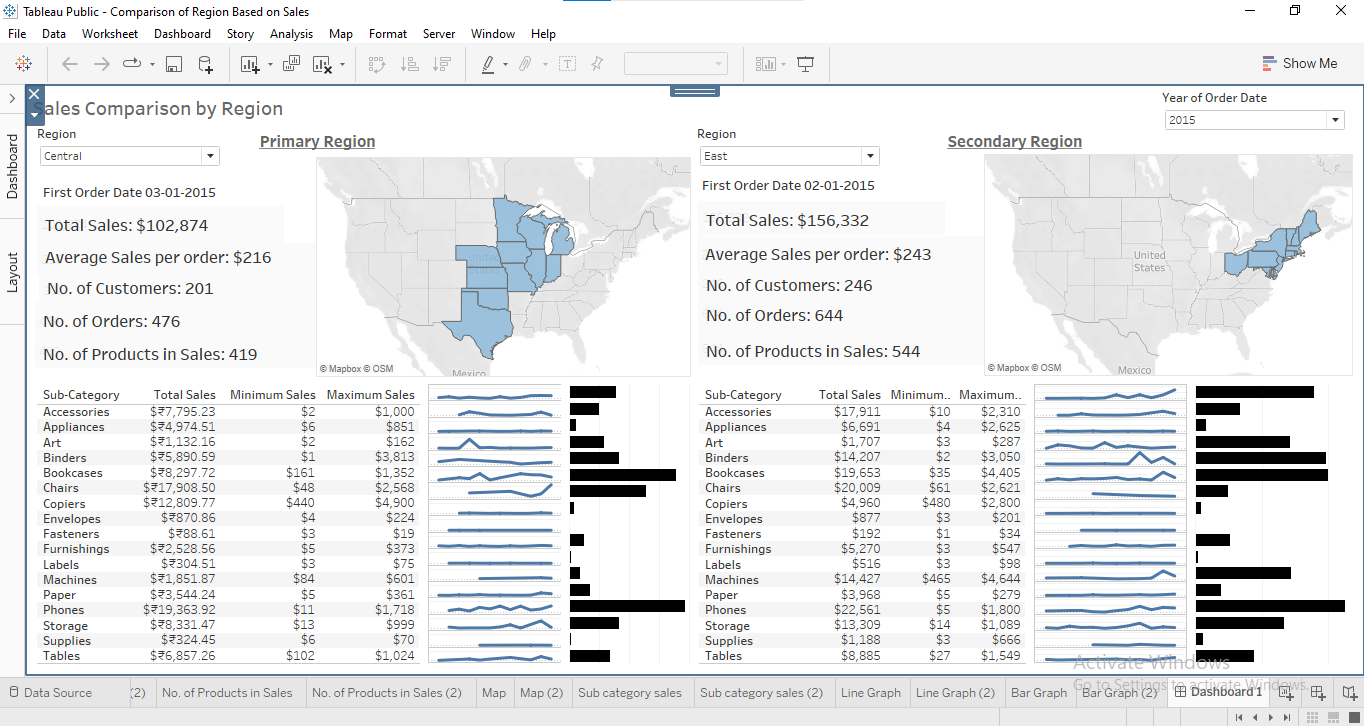

This screenshot's page, from the dashboard's own definition file:
{"tool":"tableau","page":{"name":"Dashboard 1","canvas":[1000,1000],"units":"permille","ordinal":0},"visuals":[{"type":"filter","title":"First Order Date","param":"[federated.1mujf1b0lsy11f1d64mzi04gg3k1].[yr:Order Date:ok]","box":[848.5,8.4,138.5,74.3]},{"type":"text","box":[3.5,13.5,221.7,50.7]},{"type":"filter","title":"First Order Date","param":"[federated.1mujf1b0lsy11f1d64mzi04gg3k1].[none:Region:nk]","box":[8.7,69.3,138.5,74.3]},{"type":"filter","title":"First Order Date (2)","param":"[federated.1mujf1b0lsy11f1d64mzi04gg3k1].[none:Region:nk]","box":[501.3,69.3,138.5,74.3]},{"type":"text","box":[173.2,71,105.6,50.7]},{"type":"text","box":[686.6,71,122.1,50.7]},{"type":"worksheet","title":"Map (2)","mark":"Multipolygon","box":[716,118.2,275.3,375]},{"type":"worksheet","title":"Map","mark":"Multipolygon","box":[217.3,123.3,279.7,371.6]},{"type":"worksheet","title":"First Order Date (2)","mark":"Automatic","box":[502.2,143.6,219.1,55.7]},{"type":"worksheet","title":"First Order Date","mark":"Automatic","box":[10.4,157.1,205.2,52.4]},{"type":"worksheet","title":"Total Sales (2)","mark":"Automatic","box":[502.2,197.6,214.7,57.4]},{"type":"worksheet","title":"Total Sales ","mark":"Automatic","box":[8.7,204.4,214.7,67.6]},{"type":"worksheet","title":"Avg Sales per order (2)","mark":"Automatic","box":[501.3,256.8,214.7,64.2]},{"type":"worksheet","title":"Avg Sales per order","mark":"Automatic","box":[8.7,268.6,213,57.4]},{"type":"worksheet","title":"No. of Customers (2)","mark":"Automatic","box":[502.2,307.4,215.6,59.1]},{"type":"worksheet","title":"No. of Customers","mark":"Automatic","box":[10.4,319.3,209.5,59.1]},{"type":"worksheet","title":"No. of Orders (2)","mark":"Automatic","box":[502.2,358.1,214.7,60.8]},{"type":"worksheet","title":"No. of Orders","mark":"Automatic","box":[7.8,368.2,210.4,65.9]},{"type":"worksheet","title":"No. of Products in Sales (2)","mark":"Automatic","box":[502.2,418.9,214.7,55.7]},{"type":"worksheet","title":"No. of Products in Sales","mark":"Automatic","box":[7.8,424,210.4,55.7]},{"type":"worksheet","title":"Sub category sales","mark":"Automatic","rows":["Sub-Category"],"box":[6,500,291.4,486.5]},{"type":"worksheet","title":"Line Graph","mark":"Line","rows":["Sub-Category","Sales"],"cols":["Order Date"],"box":[297.4,500,105.8,486.5]},{"type":"worksheet","title":"Bar Graph","mark":"Bar","rows":["Sub-Category"],"cols":["Sales"],"box":[403.2,500,96.7,486.4]},{"type":"worksheet","title":"Sub category sales (2)","mark":"Automatic","rows":["Sub-Category"],"box":[500,500,250.2,486.5]},{"type":"worksheet","title":"Line Graph (2)","mark":"Line","rows":["Sub-Category","Sales"],"cols":["Order Date"],"box":[750.2,500,120.3,486.5]},{"type":"worksheet","title":"Bar Graph (2)","mark":"Bar","rows":["Sub-Category"],"cols":["Sales"],"box":[870.5,500,123.5,486.4]}]}

Visuals, with their boxes on the dashboard's canvas, which has no fixed pixel size, in thousandths of its width and height (x1, y1, x2, y2). These are canvas units, not pixel positions in the 1364x726 screenshot, which may show the page scaled, cropped or inside an application window:
"First Order Date" filter: box=[848, 8, 987, 83]
text: box=[4, 14, 225, 64]
"First Order Date" filter: box=[9, 69, 147, 144]
"First Order Date (2)" filter: box=[501, 69, 640, 144]
text: box=[173, 71, 279, 122]
text: box=[687, 71, 809, 122]
"Map (2)" worksheet (Multipolygon marks): box=[716, 118, 991, 493]
"Map" worksheet (Multipolygon marks): box=[217, 123, 497, 495]
"First Order Date (2)" worksheet: box=[502, 144, 721, 199]
"First Order Date" worksheet: box=[10, 157, 216, 210]
"Total Sales (2)" worksheet: box=[502, 198, 717, 255]
"Total Sales " worksheet: box=[9, 204, 223, 272]
"Avg Sales per order (2)" worksheet: box=[501, 257, 716, 321]
"Avg Sales per order" worksheet: box=[9, 269, 222, 326]
"No. of Customers (2)" worksheet: box=[502, 307, 718, 366]
"No. of Customers" worksheet: box=[10, 319, 220, 378]
"No. of Orders (2)" worksheet: box=[502, 358, 717, 419]
"No. of Orders" worksheet: box=[8, 368, 218, 434]
"No. of Products in Sales (2)" worksheet: box=[502, 419, 717, 475]
"No. of Products in Sales" worksheet: box=[8, 424, 218, 480]
"Sub category sales" worksheet: box=[6, 500, 297, 986]
"Line Graph" worksheet (Line marks): box=[297, 500, 403, 986]
"Bar Graph" worksheet (Bar marks): box=[403, 500, 500, 986]
"Sub category sales (2)" worksheet: box=[500, 500, 750, 986]
"Line Graph (2)" worksheet (Line marks): box=[750, 500, 870, 986]
"Bar Graph (2)" worksheet (Bar marks): box=[870, 500, 994, 986]
